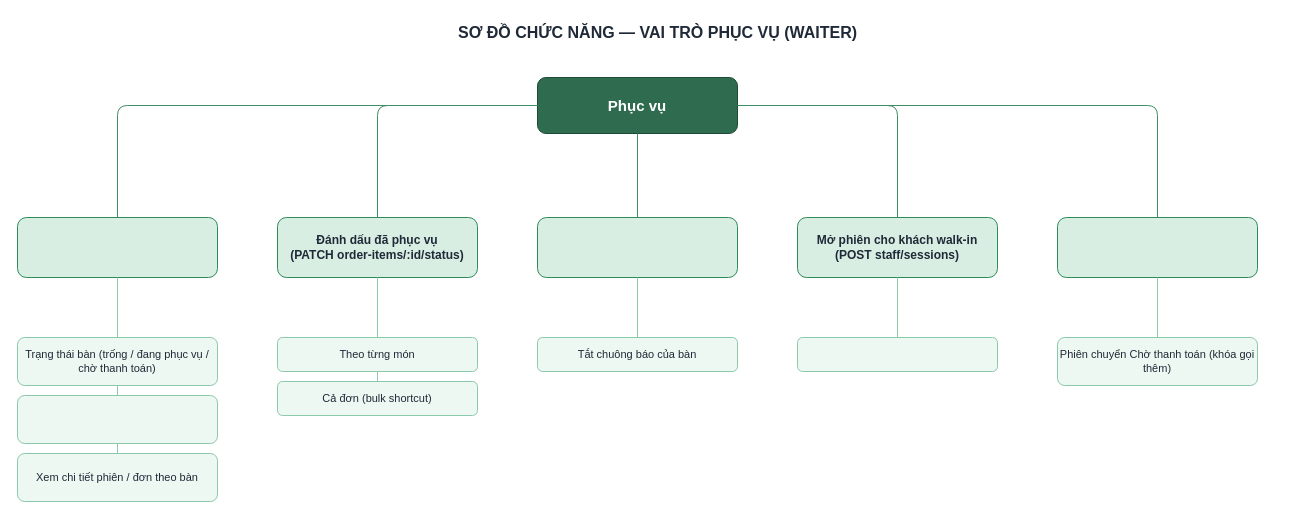
This 1315x519 diagram has some shape labels left out. The box of each missing label's shape, as (x1, y1, x2, y2) in pixels:
Chọn bàn trống + nhập số khách: (796, 336, 998, 372)
Theo dõi tín hiệu (ready / gọi NV / yêu cầu bill): (16, 394, 218, 444)
Xem sơ đồ / lưới bàn (GET /tables): (16, 216, 218, 278)
Xác nhận gọi nhân viên (POST sessions/:id/ack-waiter-call): (536, 216, 738, 278)
Yêu cầu thanh toán hộ khách (POST sessions/:id/request-bill): (1056, 216, 1258, 278)
